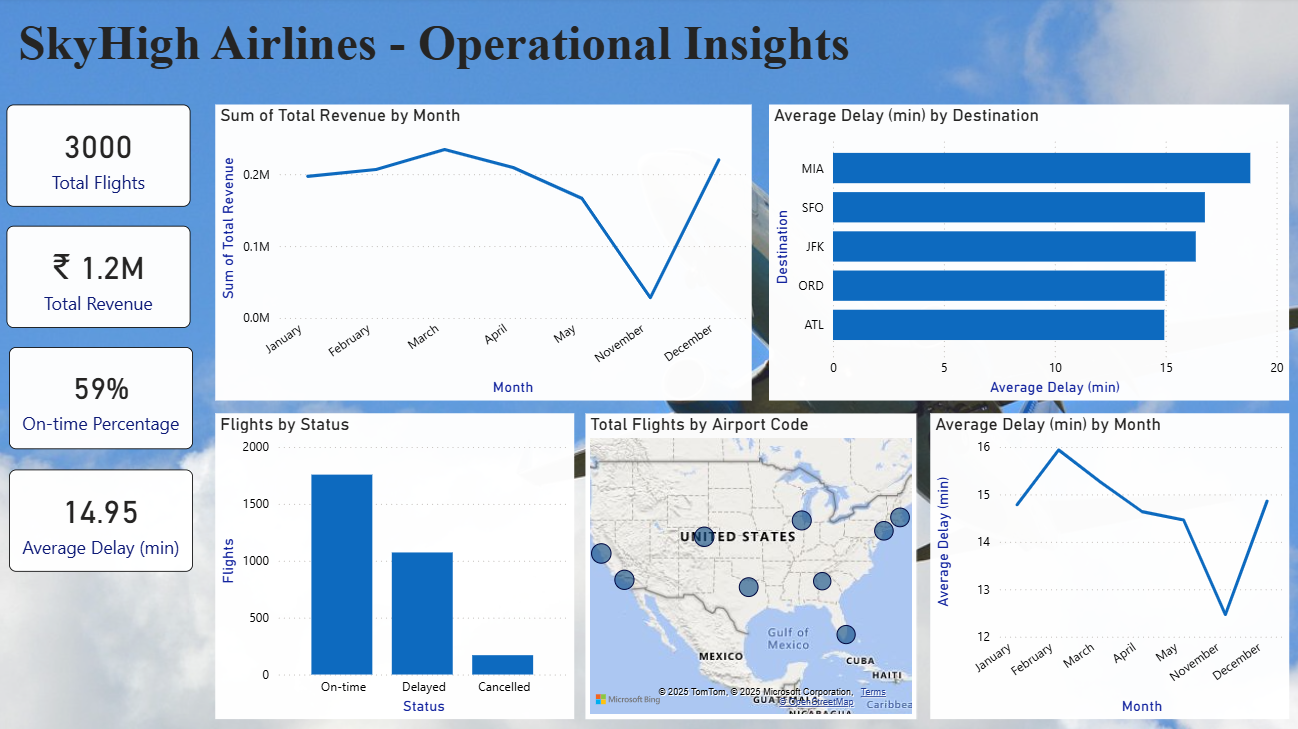

The page's visual inventory and layout, read from the dashboard file:
{"tool":"powerbi","page":{"name":"Page 2","canvas":[1280,720],"ordinal":1},"visuals":[{"type":"textbox","box":[0,12.2,860.9,81.9],"z":0},{"type":"card","fields":{"Values":["Airline_Flights.Total Flights"]},"box":[12.2,105.2,180,100],"z":1000},{"type":"card","fields":{"Values":["Airline_Flights.Total Revenue"]},"box":[12.2,223.8,180,100],"z":2000},{"type":"card","fields":{"Values":["Airline_Flights.On-time %"]},"box":[14.7,342.4,180,100],"z":3000},{"type":"card","fields":{"Values":["Airline_Flights.Average Delay"]},"box":[14.7,462.2,180,100],"z":4000},{"type":"lineChart","fields":{"Category":["Airline_Flights.Date.Variation.Date Hierarchy.Month"],"Y":["Sum(Airline_Revenue.Total Revenue)"]},"box":[216.4,105.2,524.6,289.8],"z":5000},{"type":"clusteredBarChart","fields":{"Category":["Airline_Flights.Destination"],"Y":["Airline_Flights.Average Delay"]},"box":[758.2,105.2,508.7,289.8],"z":6000},{"type":"clusteredColumnChart","fields":{"Y":["Airline_Flights.Flights"],"Category":["Airline_Flights.Status"]},"box":[216.4,407.2,351,299.6],"z":7000},{"type":"map","fields":{"Category":["Airline_Airports.Airport Code"],"Size":["Airline_Flights.Total Flights"]},"box":[578.4,407.2,324.1,299.6],"z":8000},{"type":"lineChart","fields":{"Category":["Airline_Flights.Date.Variation.Date Hierarchy.Month"],"Y":["Airline_Flights.Average Delay"]},"box":[915.9,407.2,351,299.6],"z":9000}]}

Visuals, with their boxes in screenshot pixels (x1, y1, x2, y2), scaled from the page's 1280x720 canvas onto the 1298x729 screenshot:
textbox: box=[0, 12, 873, 95]
card - Airline_Flights.Total Flights: box=[12, 107, 195, 208]
card - Airline_Flights.Total Revenue: box=[12, 227, 195, 328]
card - Airline_Flights.On-time %: box=[15, 347, 197, 448]
card - Airline_Flights.Average Delay: box=[15, 468, 197, 569]
lineChart - Airline_Flights.Date.Variation.Date Hierarchy.Month x Sum(Airline_Revenue.Total Revenue): box=[219, 107, 751, 400]
clusteredBarChart - Airline_Flights.Destination x Airline_Flights.Average Delay: box=[769, 107, 1285, 400]
clusteredColumnChart - Airline_Flights.Flights x Airline_Flights.Status: box=[219, 412, 575, 716]
map - Airline_Airports.Airport Code x Airline_Flights.Total Flights: box=[587, 412, 915, 716]
lineChart - Airline_Flights.Date.Variation.Date Hierarchy.Month x Airline_Flights.Average Delay: box=[929, 412, 1285, 716]
